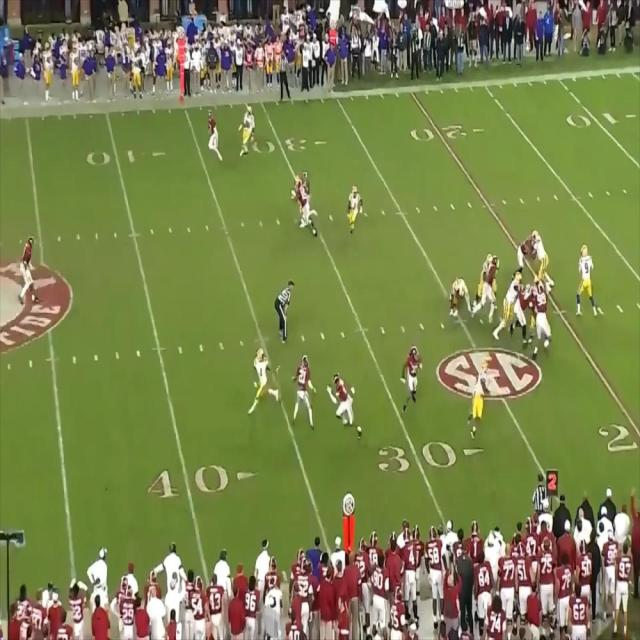db: (294, 356, 314, 426), (253, 345, 272, 411), (333, 375, 354, 429), (23, 237, 37, 305), (207, 112, 219, 154)
lb: (482, 256, 502, 324), (403, 348, 419, 412), (294, 181, 311, 239)
qb: (576, 242, 594, 315)
skill: (470, 369, 487, 434), (349, 184, 362, 234), (243, 106, 256, 154), (294, 176, 303, 187)
